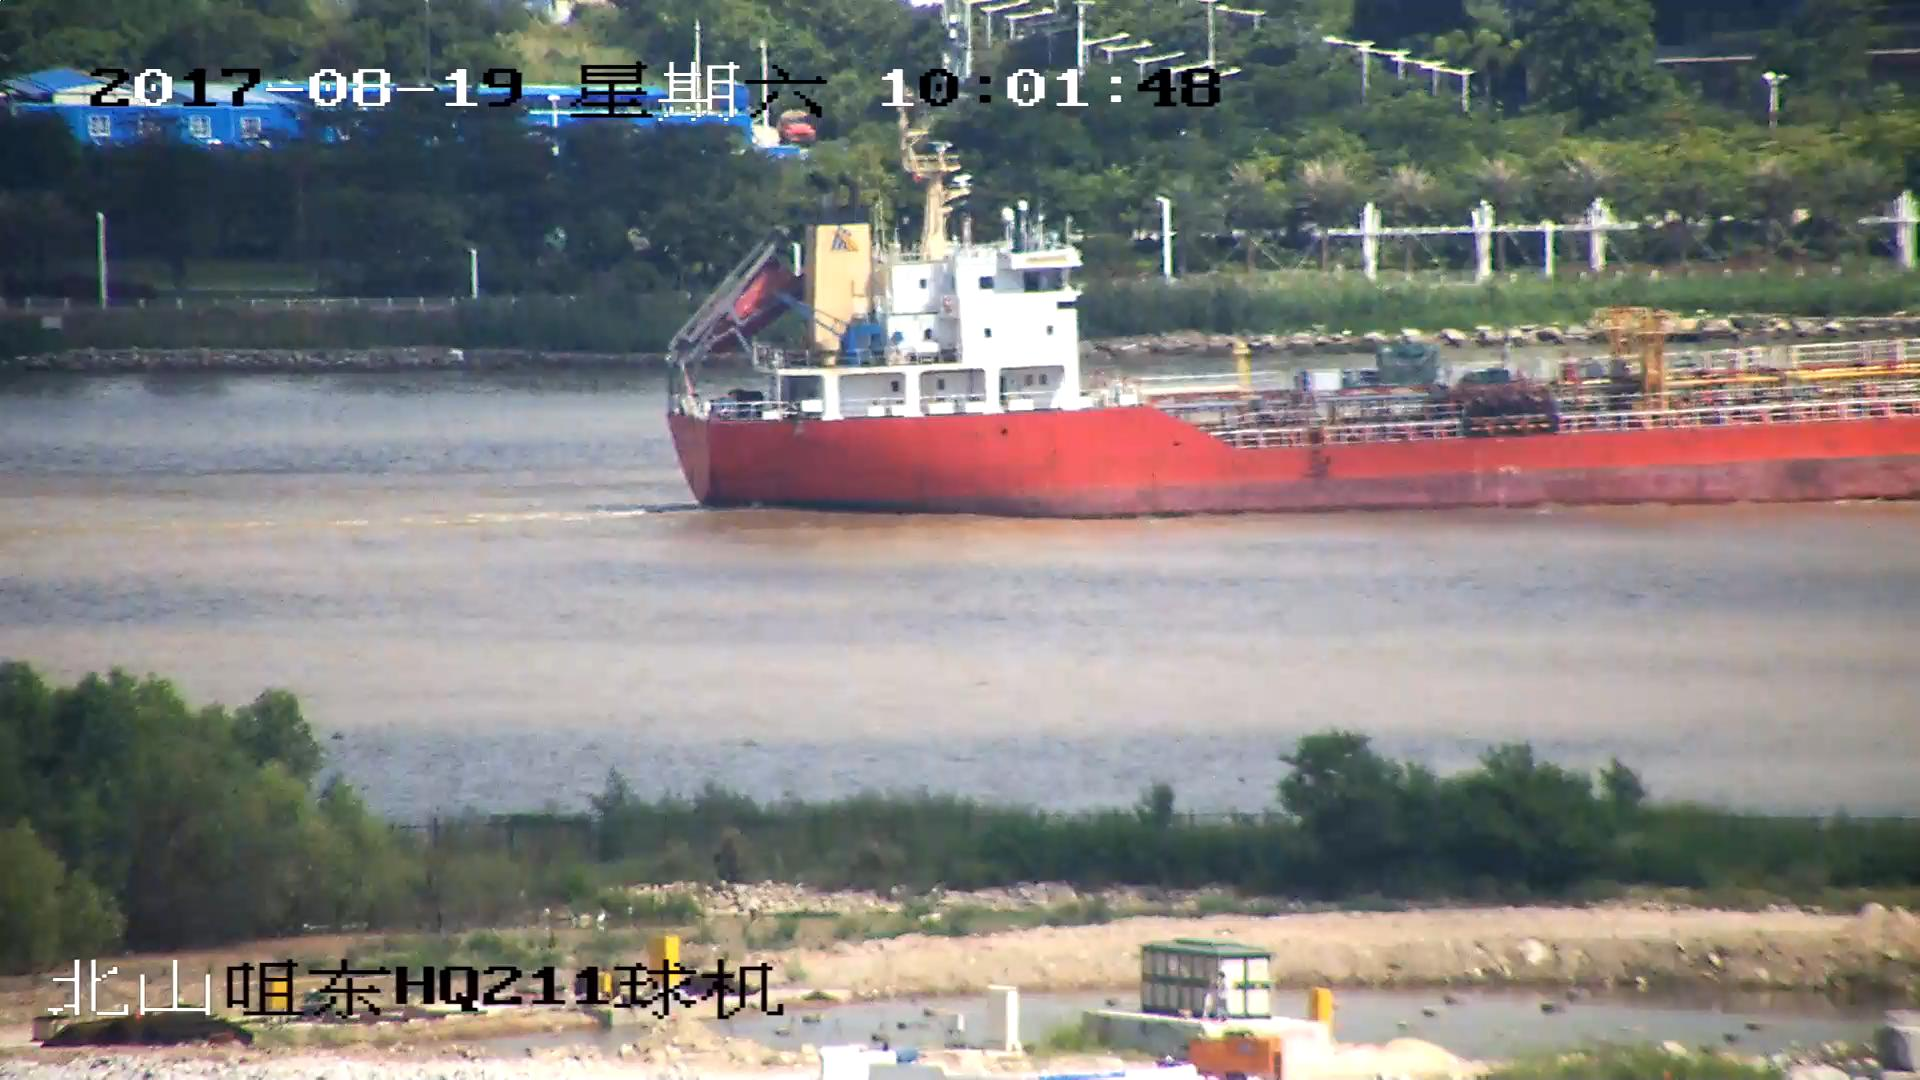general cargo ship: (668, 130, 1920, 517)
